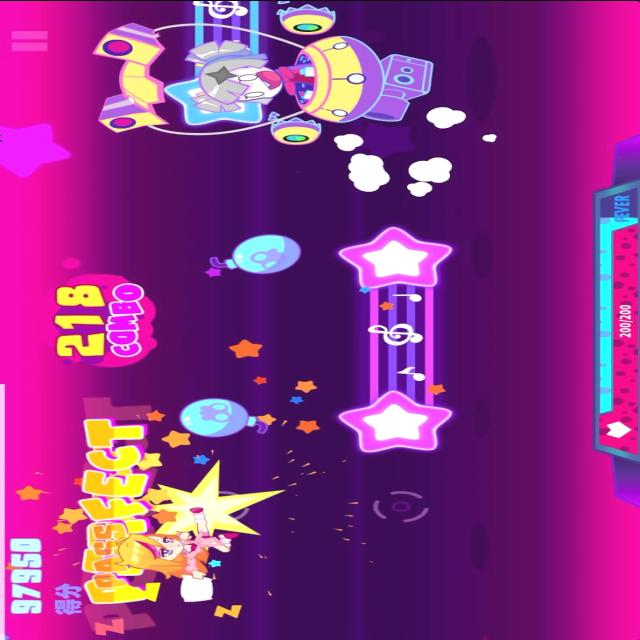hold: (329, 221, 457, 459), (168, 0, 264, 128)
qiangboss: (91, 0, 457, 140)
tang: (205, 233, 305, 274), (177, 399, 276, 438)
